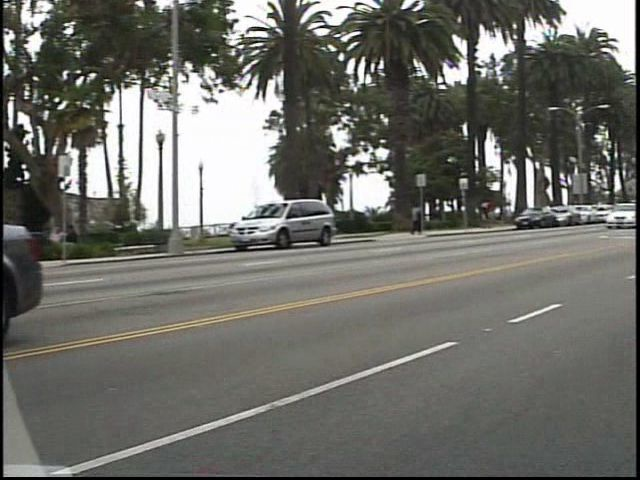person: (418, 201, 439, 240), (489, 196, 508, 231)
